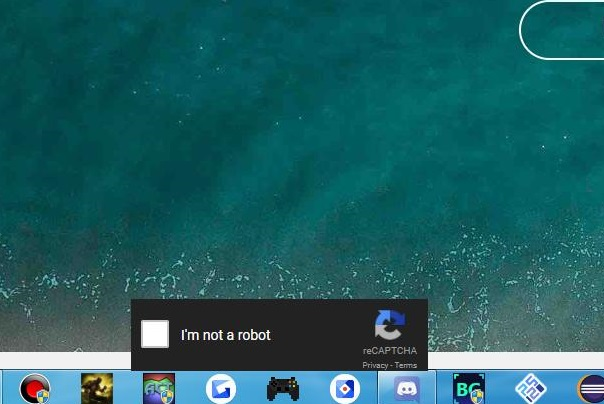captcha: (141, 319, 273, 349)
